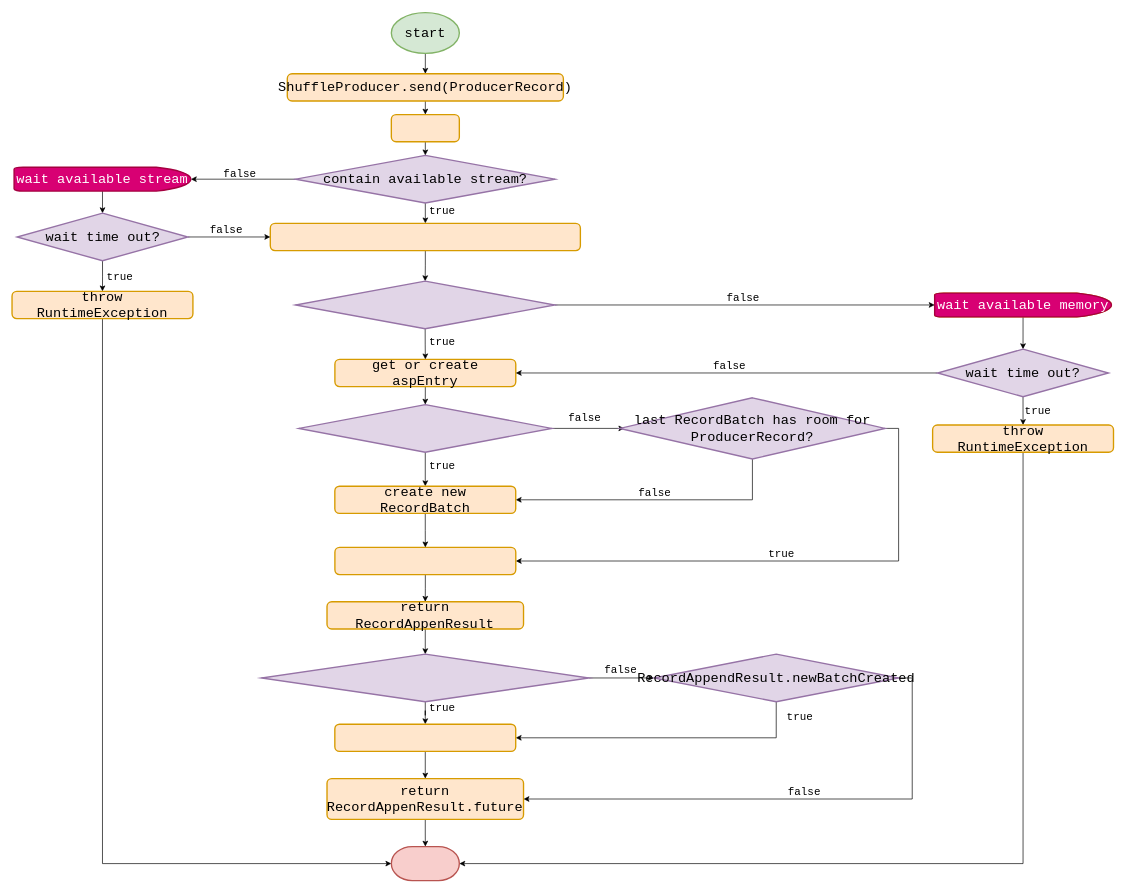
Image size: 1126x893. Some labels were removed from this diagram. The shapes that lost their labels are listed below. From the top down, each one's centre as x and y in pixels, then its label:
the point at 425,128: get asp
the point at 425,236: RecordAccumulator.append(ProducerRecord)
the point at 424,304: contain available memory?
the point at 425,428: last RecordBatch is null?
the point at 425,560: append ProducerRecord
the point at 424,677: RecordAppendResult.batchIsFull
the point at 425,737: RSSWriter.wakeup
the point at 425,863: end
